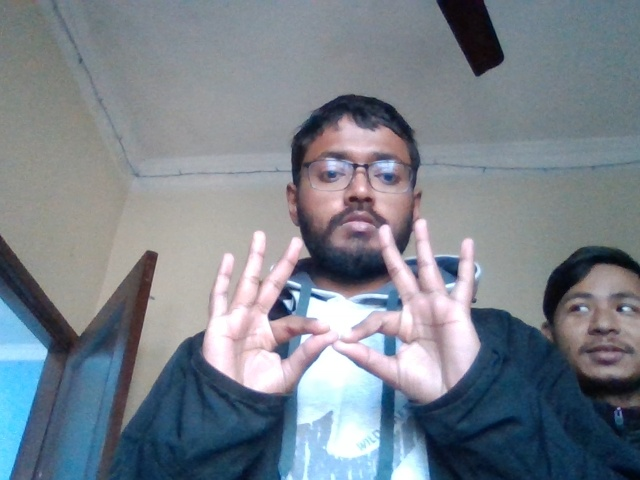family: (210, 217, 483, 402)
